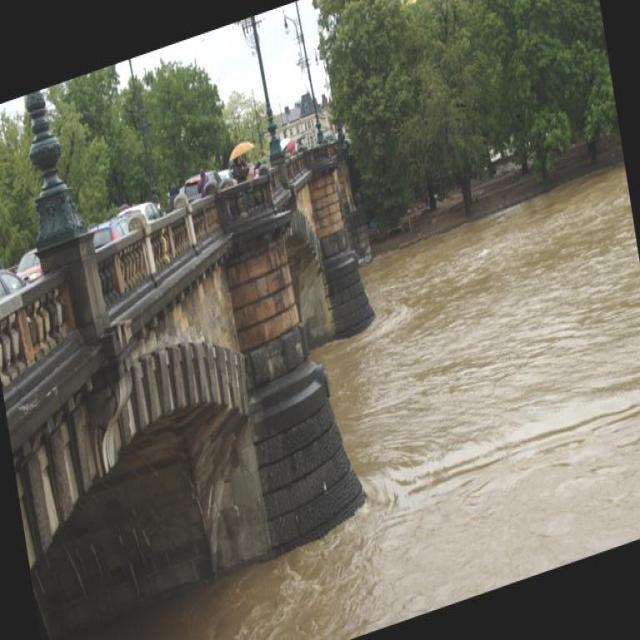flood: (299, 161, 639, 638)
